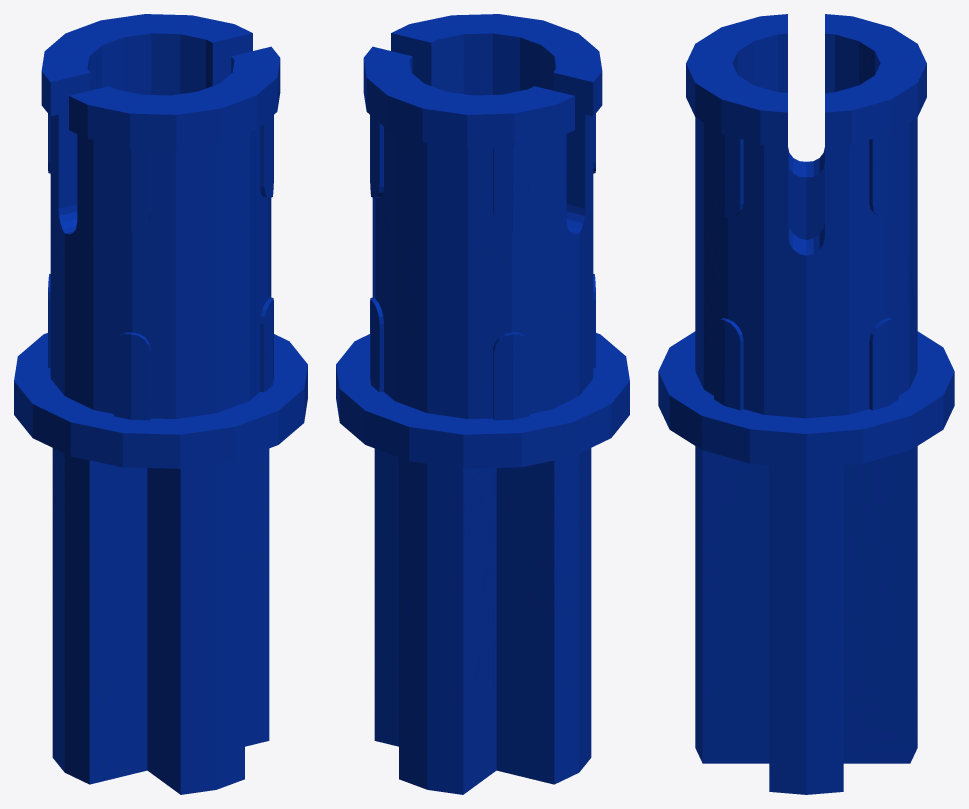
File: connector_peg_with_friction_crossaxle.dae
3 views of the same model, side by side, from view 1: azimuth 30°, elevation 25°; view 2: azimuth 150°, elevation 25°; view 3: azimuth 270°, elevation 25° (orthographic).
Visible parts, largest first — view 1: node; view 2: node; view 3: node.
Part boxes in pixels (x1,y1,x2,y2): node: [14, 14, 307, 794]; node: [336, 14, 629, 794]; node: [658, 14, 954, 794].
Bounding box in the file's own units: 15.5 × 39.5 × 15.5.
1 material, 1 textured.
